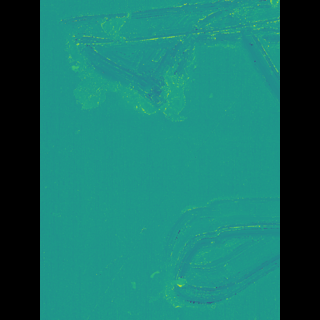Loch: (81, 0, 250, 125), (157, 190, 250, 312)
